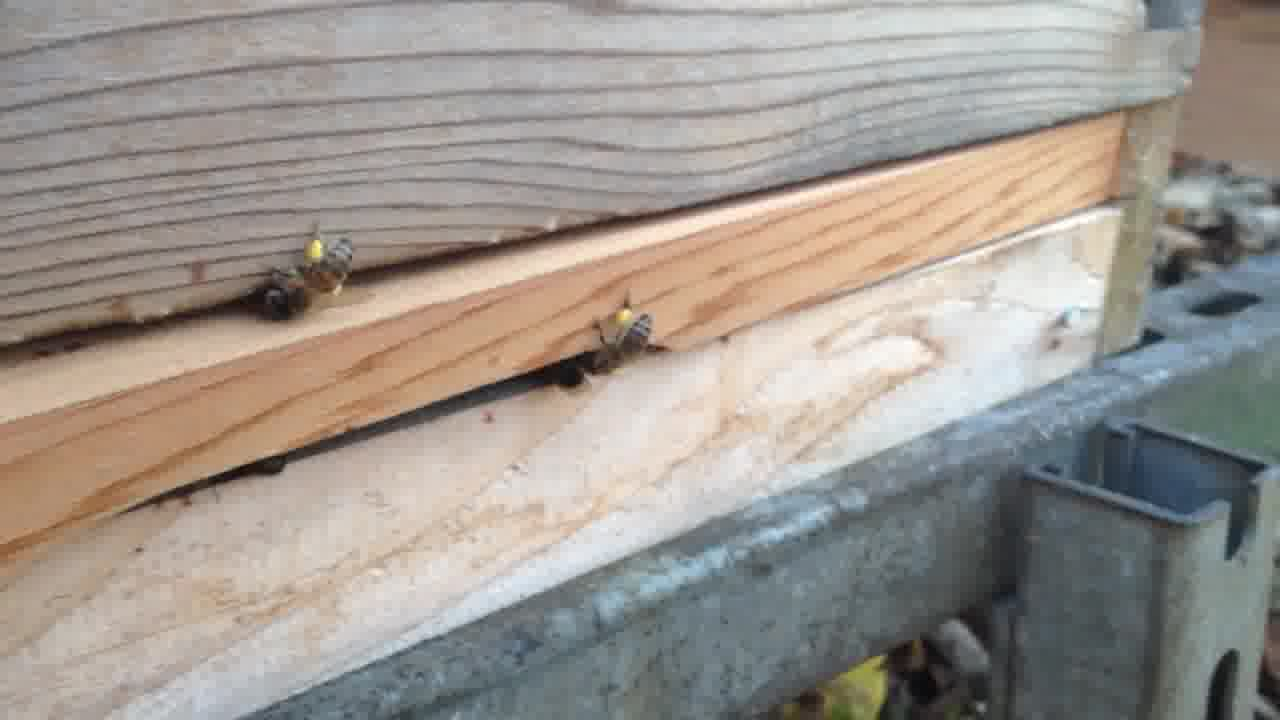pollen: (252, 226, 356, 312), (584, 298, 656, 381)
